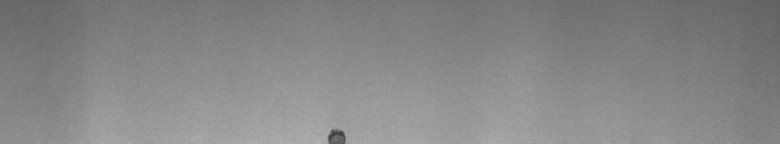fi: (324, 122, 351, 136)
